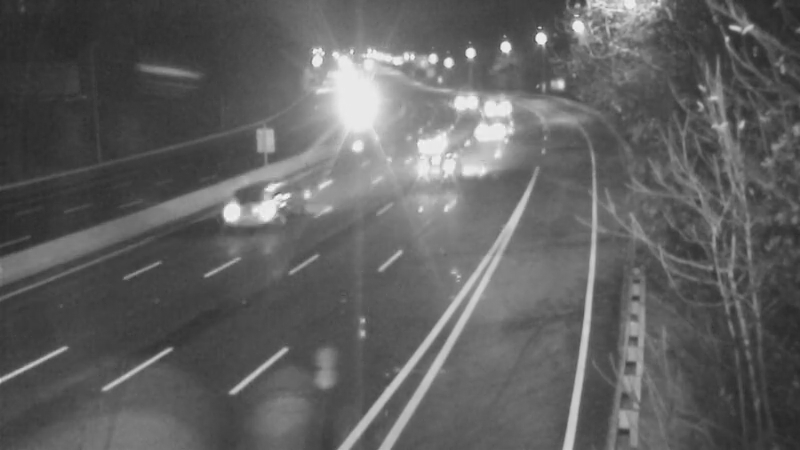vehicle: (397, 130, 477, 210), (215, 169, 295, 249), (438, 78, 488, 128), (465, 81, 515, 131), (460, 107, 510, 157), (407, 118, 457, 168), (333, 81, 383, 131)
